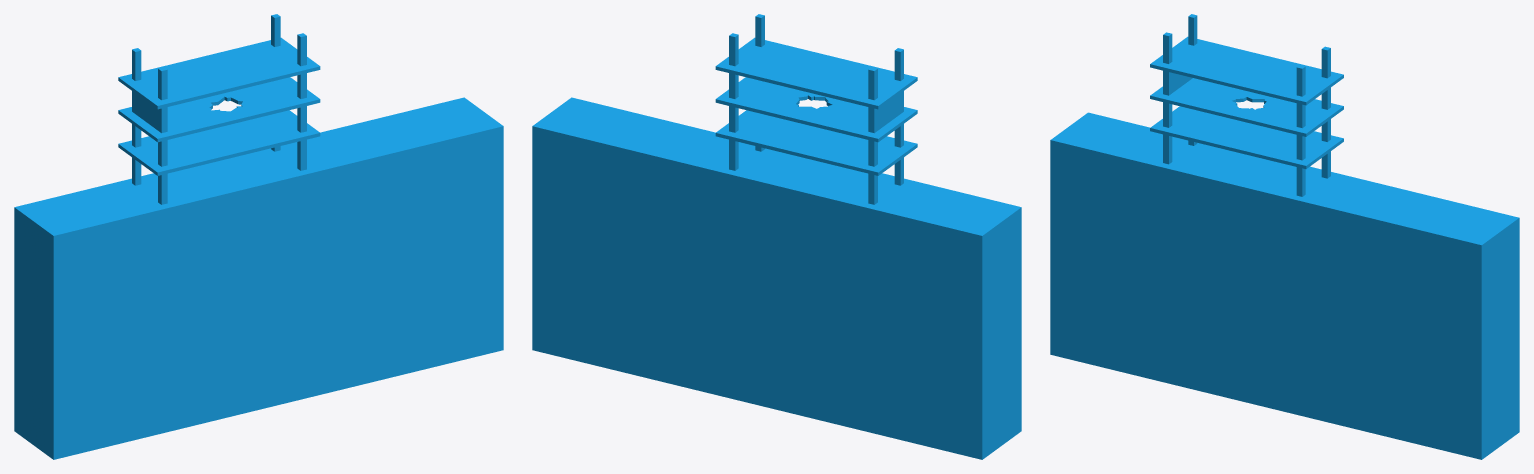
File: Building_Constr_2.FBX
The picture shows the model from 3 angles, left to right: view 1: azimuth 30°, elevation 25°; view 2: azimuth 150°, elevation 25°; view 3: azimuth 330°, elevation 25°; orthographic projection. The views are drawn at different scales.
Parts seen in each view (by area): view 1: Box1327; view 2: Box1327; view 3: Box1327.
Boxes of the visible parts, left/top/right/bottom form: Box1327: left=14, top=14, right=503, bottom=459; Box1327: left=532, top=14, right=1021, bottom=459; Box1327: left=1050, top=14, right=1519, bottom=459.
Size of the model in its own units: 405 by 61.33 by 308.
